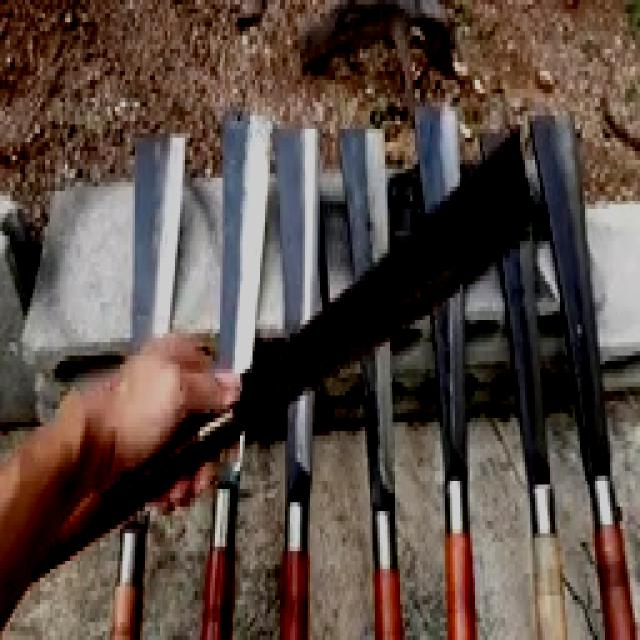eto: (337, 125, 403, 638)
